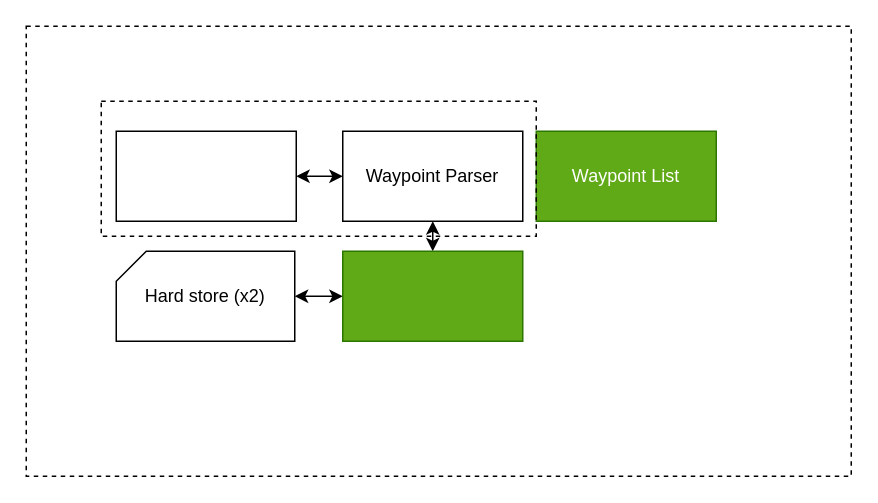
The diagram is 878 pixels wide and 503 high, and some of its shapes have lost their labels. Here are the shapes that lost their labels. From the top down, the centre of each, then its label:
point (205, 175): Waypoint Interface
point (432, 295): HS Manager
